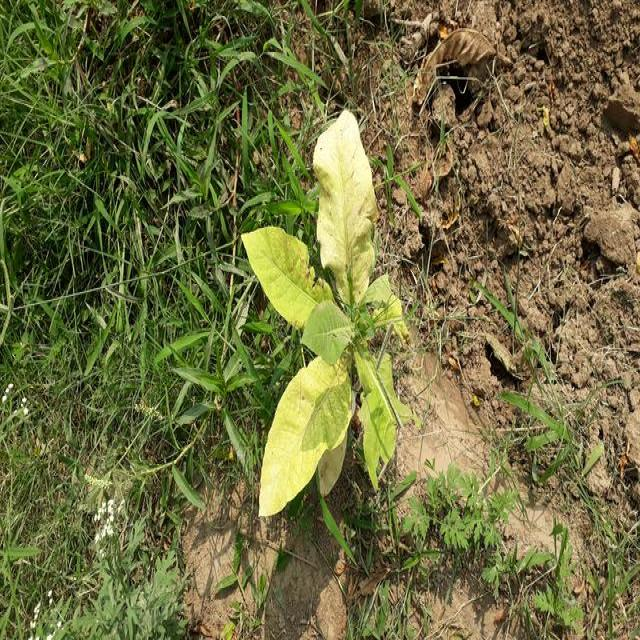crop: (243, 106, 407, 514)
